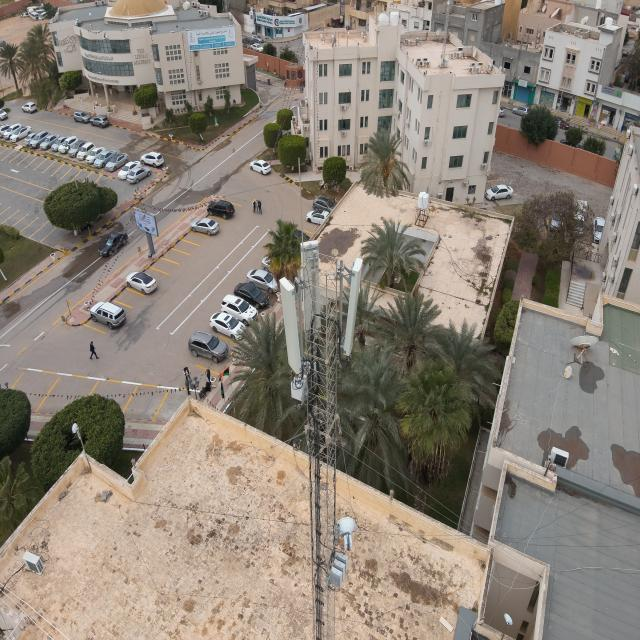antenna: (277, 274, 304, 380), (296, 240, 322, 332), (341, 257, 360, 357)
lighnig-rad: (295, 149, 305, 272)
microware-dish: (336, 517, 358, 553)
power-box: (326, 552, 354, 594)
radio-unit: (289, 372, 314, 402)
